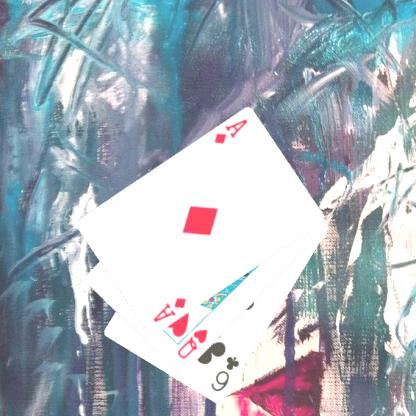6C: (208, 354, 241, 393)
AD: (211, 116, 249, 146), (150, 295, 188, 324)
QH: (174, 327, 210, 360)
